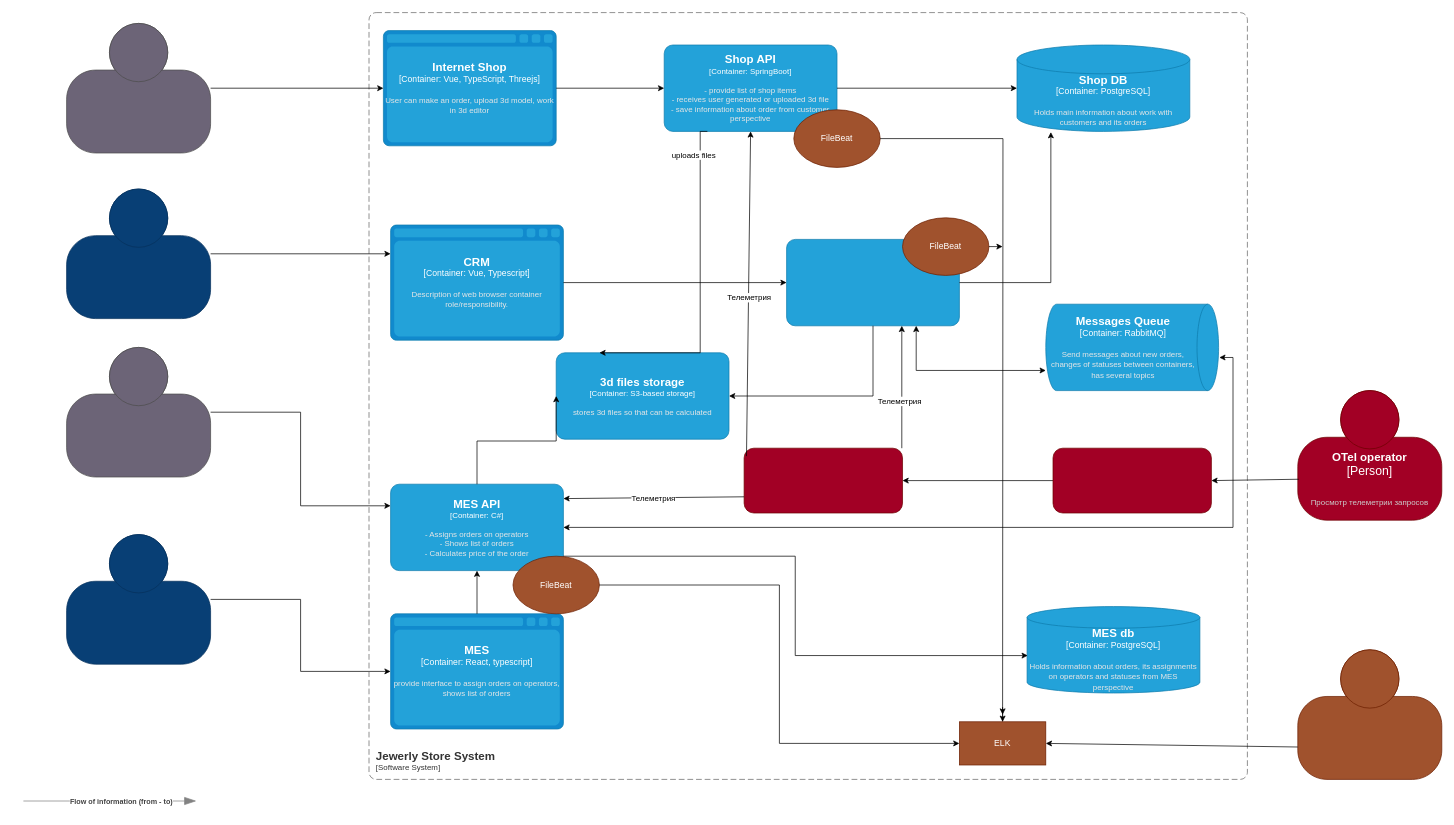
Image size: 1454x825. Some labels were removed from this diagram. Each missing label, with the box of its shape:
API user [Person] Description of external person.: (66, 347, 211, 477)
CRM API [Container: SpringBoot] Description of container role/responsibility.: (786, 239, 959, 326)
Customer [Person] Description of external person.: (66, 23, 211, 153)
Grafana: (1052, 447, 1211, 513)
Jaeger All-In-One: (743, 447, 903, 513)
Log viewer [Person] Просмотр логов системы: (1297, 649, 1442, 779)
Operator [Person] Takes order in work, manufactures jewerly: (66, 534, 211, 664)
Seller [Person] Operates with order, confirms manufacturing for the user: (66, 188, 211, 319)
